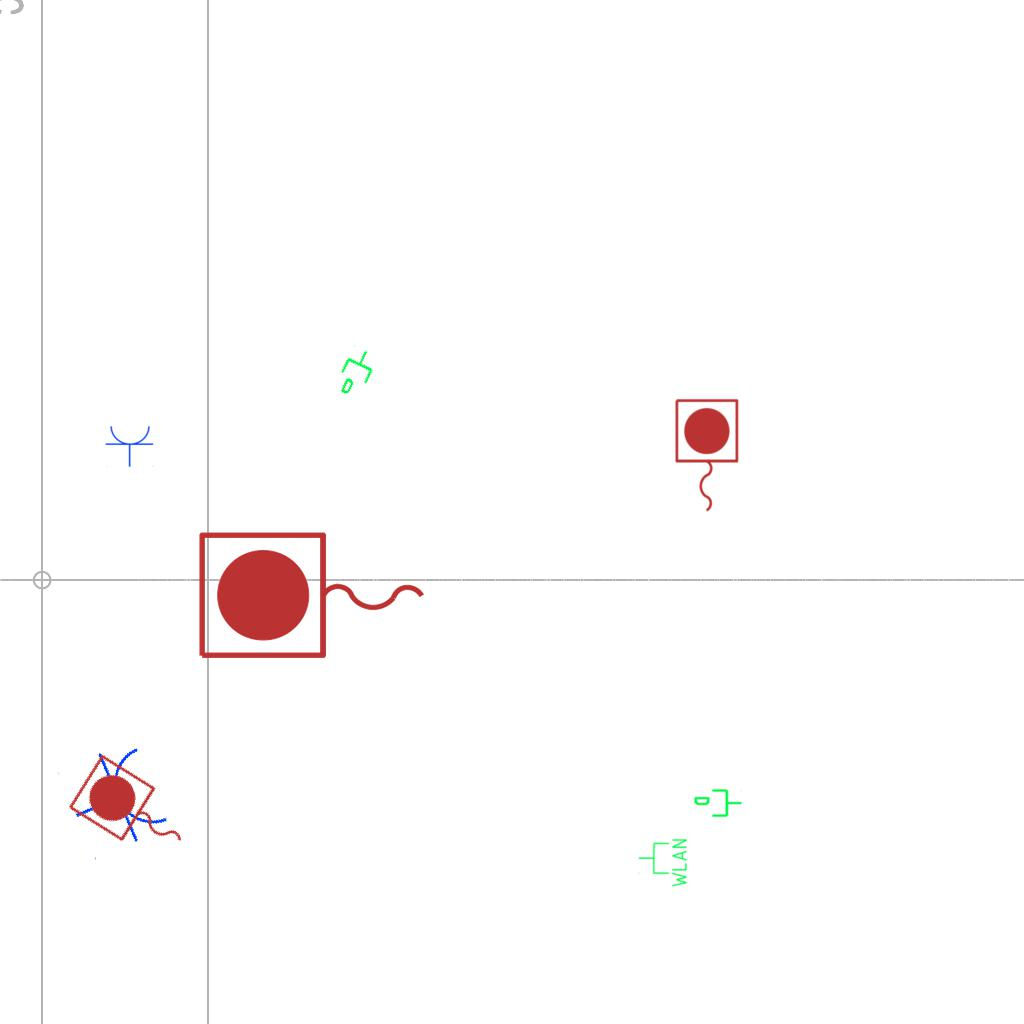Datenanschluss_einfach: (331, 343, 383, 403), (693, 787, 743, 821)
Schukosteckdose_einfach: (56, 736, 176, 863), (105, 424, 155, 467)
WLAN: (637, 837, 689, 889)
Zugtaster: (191, 525, 435, 669), (62, 749, 204, 875), (670, 395, 742, 517)
